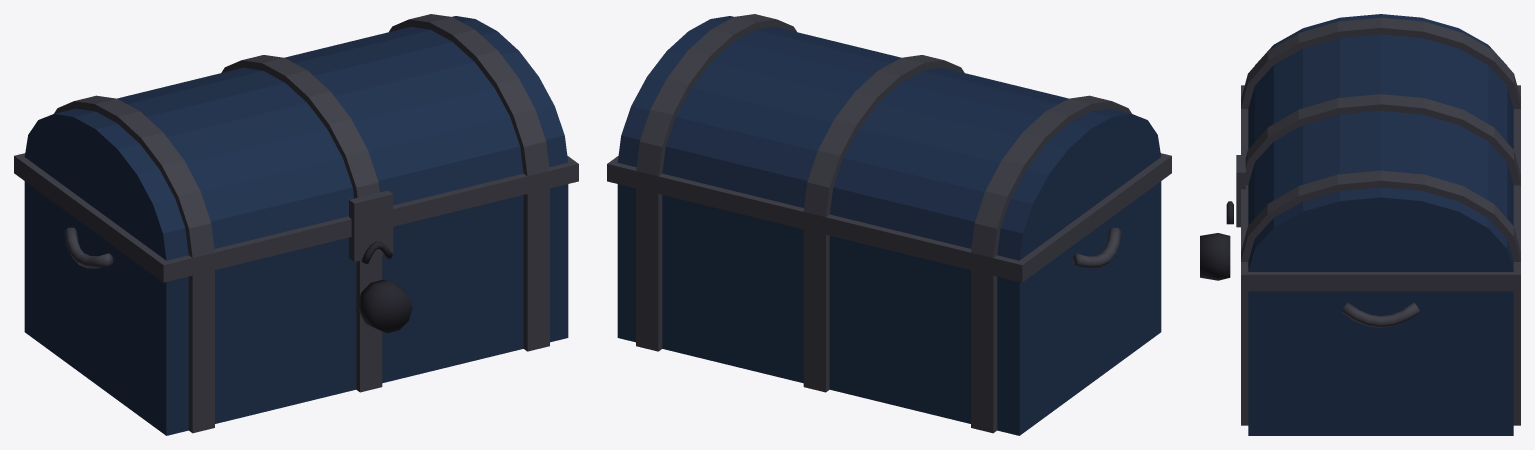
The model's file is chest_iron.glb.
3 views of the same model, side by side, from view 1: azimuth 30°, elevation 25°; view 2: azimuth 150°, elevation 25°; view 3: azimuth 270°, elevation 25° (orthographic). The views are drawn at different scales.
Visible parts, largest first — view 1: chest_iron; view 2: chest_iron; view 3: chest_iron.
Boxes of the visible parts, x1,y1,x2,y2 form: chest_iron: (14,14,578,435); chest_iron: (607,14,1171,435); chest_iron: (1200,14,1520,435).
Size of the model in its own units: 0.79 by 0.4484 by 0.532.
